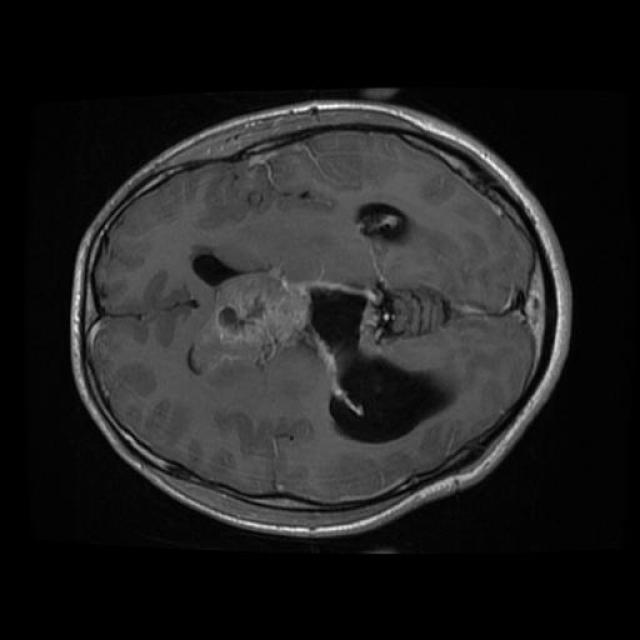Glioma: (190, 271, 453, 442)
